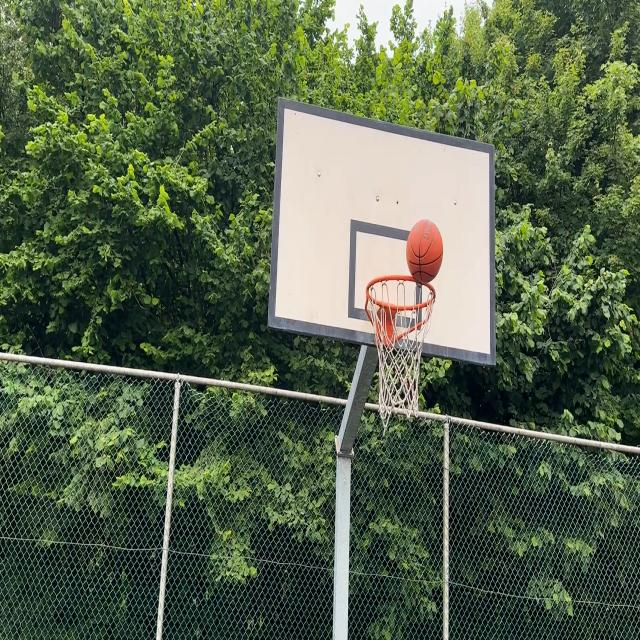rebound_hit: (404, 220, 444, 288)
